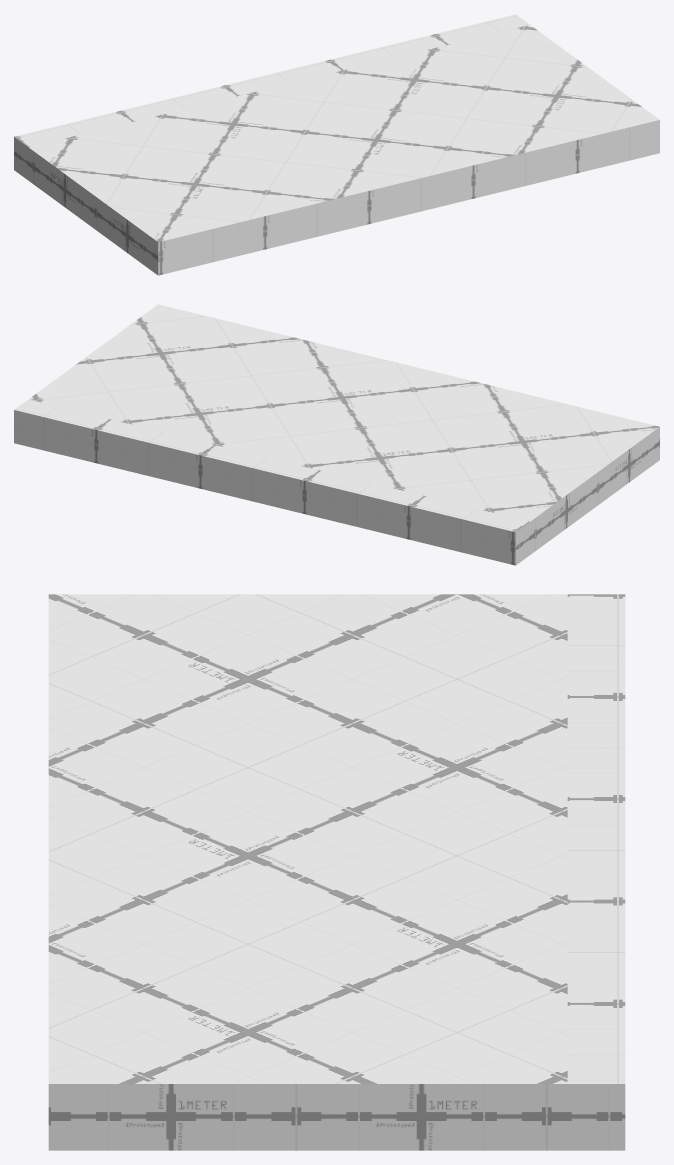
The model's file is ACERA_tramo.fbx.
3 views of the same model, one above another, from view 1: azimuth 30°, elevation 25°; view 2: azimuth 150°, elevation 25°; view 3: azimuth 270°, elevation 25° (orthographic). The views are drawn at different scales.
Visible parts, largest first — view 1: ACERA_tramo; view 2: ACERA_tramo; view 3: ACERA_tramo.
Boxes of the visible parts, x1=… form: ACERA_tramo: x1=14, y1=14, x2=659, y2=275; ACERA_tramo: x1=14, y1=304, x2=659, y2=565; ACERA_tramo: x1=48, y1=594, x2=625, y2=1150.
Size of the model in its own units: 4 by 0.2541 by 1.99.
